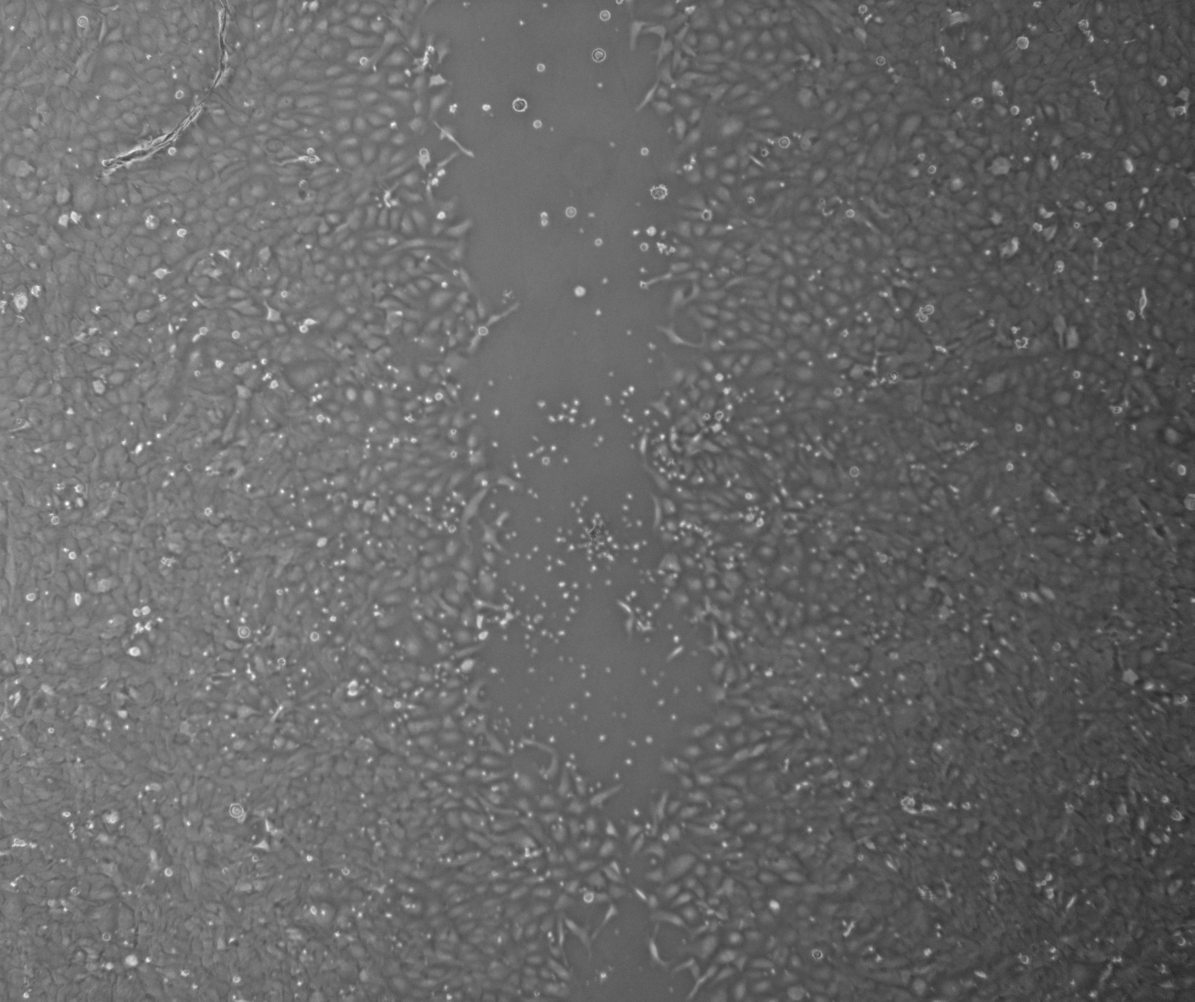wound: (426, 0, 714, 819), (576, 894, 680, 1002)
